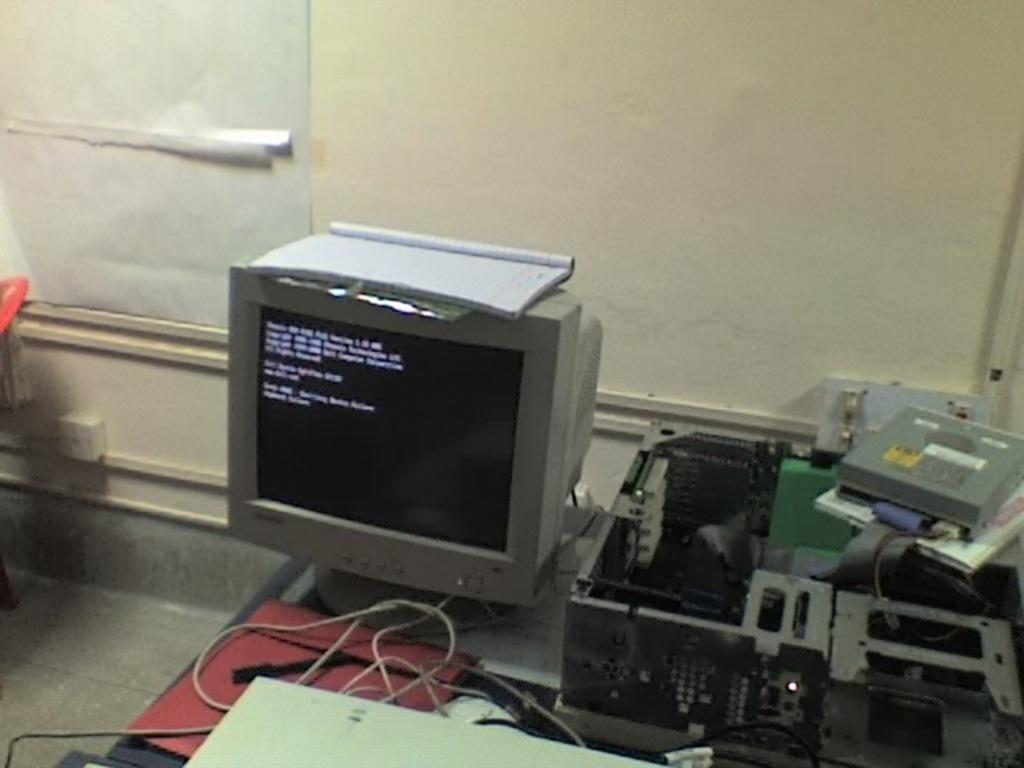Computer-monitor: (220, 254, 604, 613)
